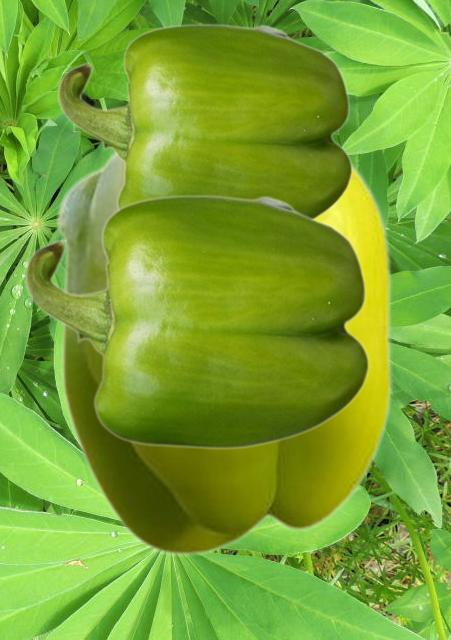bell_pepper: (55, 151, 391, 555), (24, 194, 369, 449), (57, 23, 352, 217)
